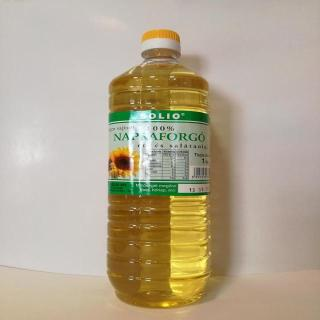Plastic-bottle: (101, 27, 221, 311)
